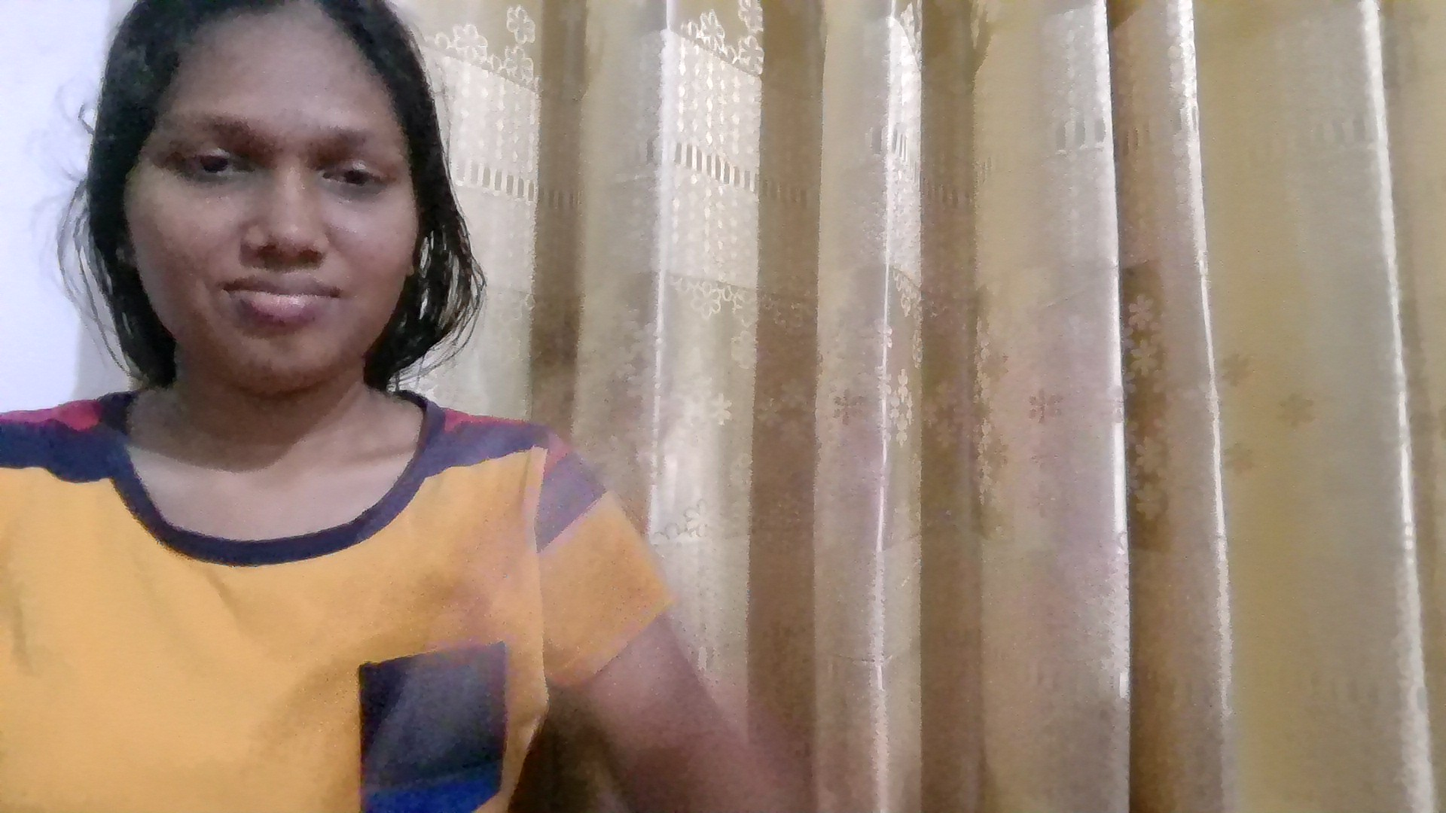not a gesture sign: (702, 4, 1401, 813)
